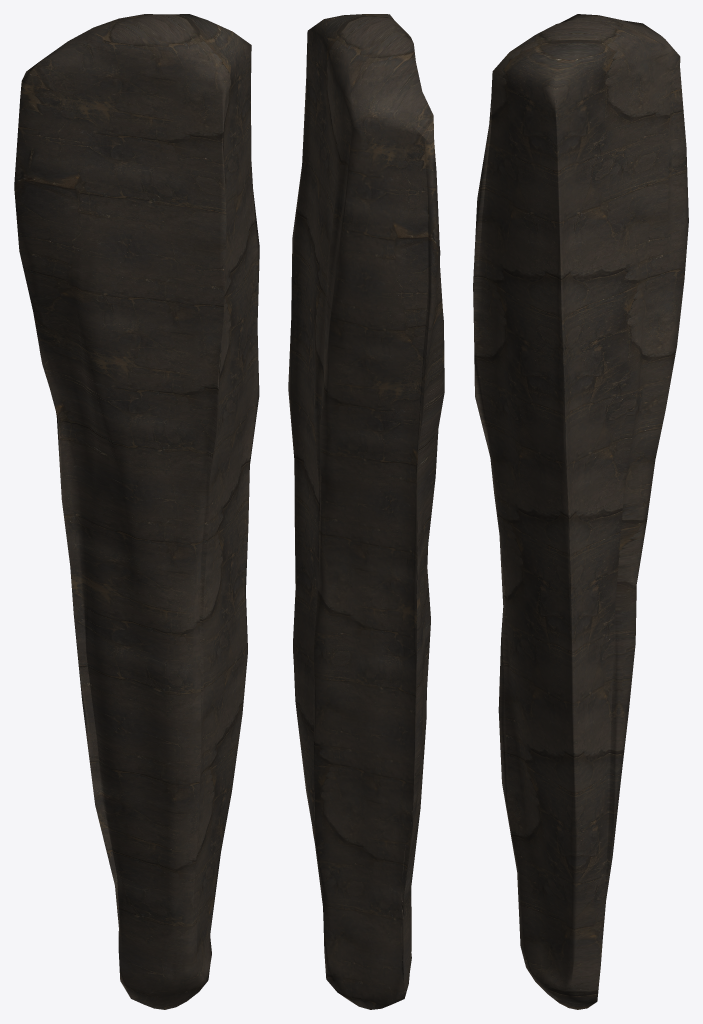
The model's file is cliff_pillar_a_lod1.gltf.
3 renders of one model, left to right at view 1: azimuth 30°, elevation 25°; view 2: azimuth 150°, elevation 25°; view 3: azimuth 270°, elevation 25°, orthographic.
Parts seen in each view (by area): view 1: cliff_pillar_a_LOD1; view 2: cliff_pillar_a_LOD1; view 3: cliff_pillar_a_LOD1.
Boxes of the visible parts, x1,y1,x2,y2 form: cliff_pillar_a_LOD1: [14, 14, 259, 1009]; cliff_pillar_a_LOD1: [288, 14, 444, 1009]; cliff_pillar_a_LOD1: [473, 14, 688, 1009].
Size of the model in its own units: 7.16 by 34 by 6.8.
1 material, 1 textured.
